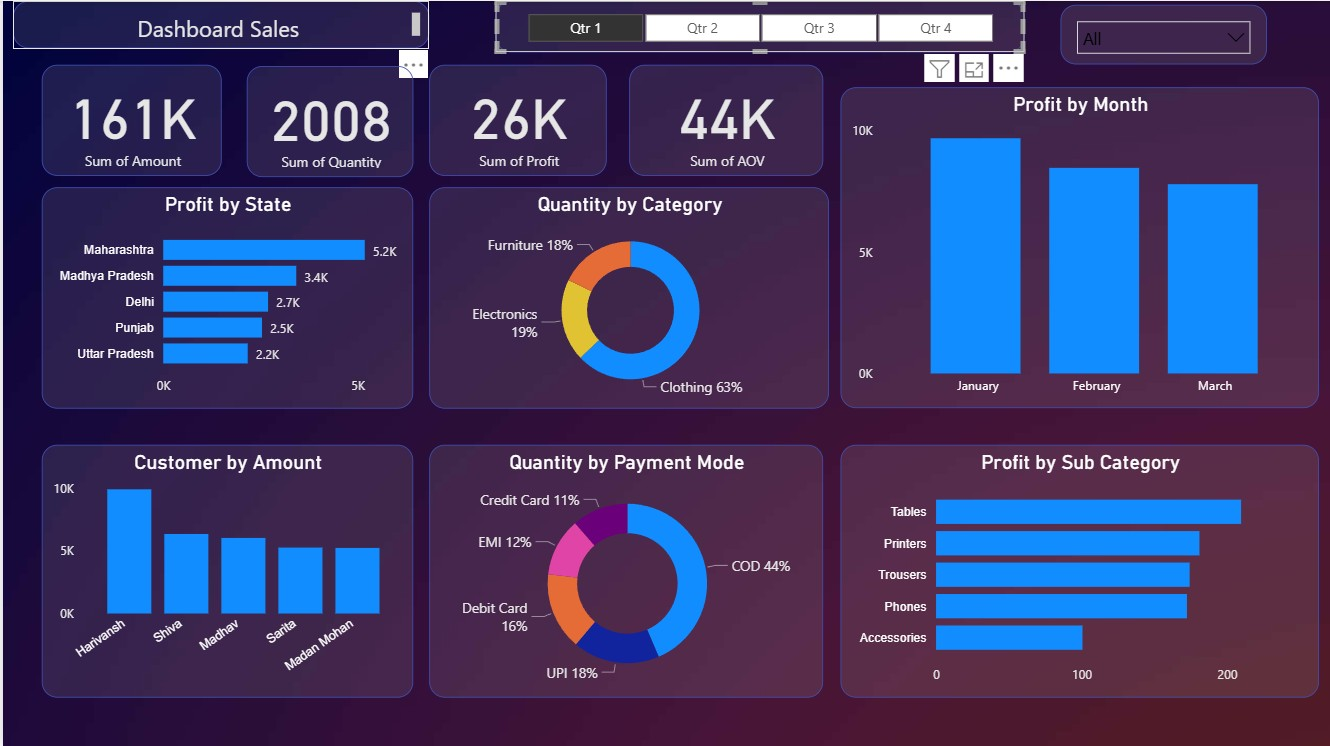

What the dashboard file says about the page in this screenshot:
{"tool":"powerbi","page":{"name":"Page 1","canvas":[1280,720],"ordinal":0},"visuals":[{"type":"textbox","box":[9.6,0,401.7,45.2],"z":0},{"type":"clusteredColumnChart","title":"Profit by Month","fields":{"Category":["Orders.Order Date.Variation.Date Hierarchy.Month"],"Y":["Sum(Details.Profit)"]},"box":[808,83.2,461.9,309.9],"z":1000},{"type":"barChart","title":"Profit by Sub Category","fields":{"Category":["Details.Sub-Category"],"Y":["Avg(Details.Profit)"]},"box":[808,428.1,461.9,243.6],"z":2000},{"type":"donutChart","title":"Quantity by Category","fields":{"Category":["Details.Category"],"Y":["Sum(Details.Quantity)"]},"box":[411.3,179.7,385.9,213.5],"z":3000},{"type":"donutChart","title":"Quantity by Payment Mode","fields":{"Category":["Details.PaymentMode"],"Y":["Sum(Details.Quantity)"]},"box":[411.3,428.1,379.9,243.6],"z":4000},{"type":"card","fields":{"Values":["Sum(Details.Amount)"]},"box":[37.4,61.5,173.7,107.3],"z":5000},{"type":"card","fields":{"Values":["Sum(Details.Quantity)"]},"box":[235.2,62.7,160.4,107.3],"z":6000},{"type":"card","fields":{"Values":["Sum(Details.Profit)"]},"box":[411.3,61.5,171.3,107.3],"z":7000},{"type":"card","fields":{"Values":["Sum(Details.AOV)"]},"box":[604.2,61.5,186.9,107.3],"z":8000},{"type":"barChart","title":"Profit by State","fields":{"Category":["Orders.State"],"Y":["Sum(Details.Profit)"]},"box":[37.4,179.7,358.2,213.5],"z":9000},{"type":"clusteredColumnChart","title":"Customer by Amount","fields":{"Category":["Orders.CustomerName"],"Y":["Sum(Details.Amount)"]},"box":[37.4,428.1,358.2,243.6],"z":10000},{"type":"slicer","fields":{"Values":["Orders.Order Date.Variation.Date Hierarchy.Quarter"]},"box":[475.8,0,510,49.4],"z":11000},{"type":"slicer","fields":{"Values":["Orders.State"]},"box":[1020.1,4.1,198.8,57.6],"z":12000}]}

Visuals, with their boxes in screenshot pixels (x1, y1, x2, y2), scaled from the page's 1280x720 canvas onto the 1330x746 screenshot:
textbox: box(10, 0, 427, 47)
"Profit by Month" clusteredColumnChart: box(840, 86, 1320, 407)
"Profit by Sub Category" barChart: box(840, 444, 1320, 696)
"Quantity by Category" donutChart: box(427, 186, 828, 407)
"Quantity by Payment Mode" donutChart: box(427, 444, 822, 696)
card - Sum(Details.Amount): box(39, 64, 219, 175)
card - Sum(Details.Quantity): box(244, 65, 411, 176)
card - Sum(Details.Profit): box(427, 64, 605, 175)
card - Sum(Details.AOV): box(628, 64, 822, 175)
"Profit by State" barChart: box(39, 186, 411, 407)
"Customer by Amount" clusteredColumnChart: box(39, 444, 411, 696)
slicer - Orders.Order Date.Variation.Date Hierarchy.Quarter: box(494, 0, 1024, 51)
slicer - Orders.State: box(1060, 4, 1267, 64)
